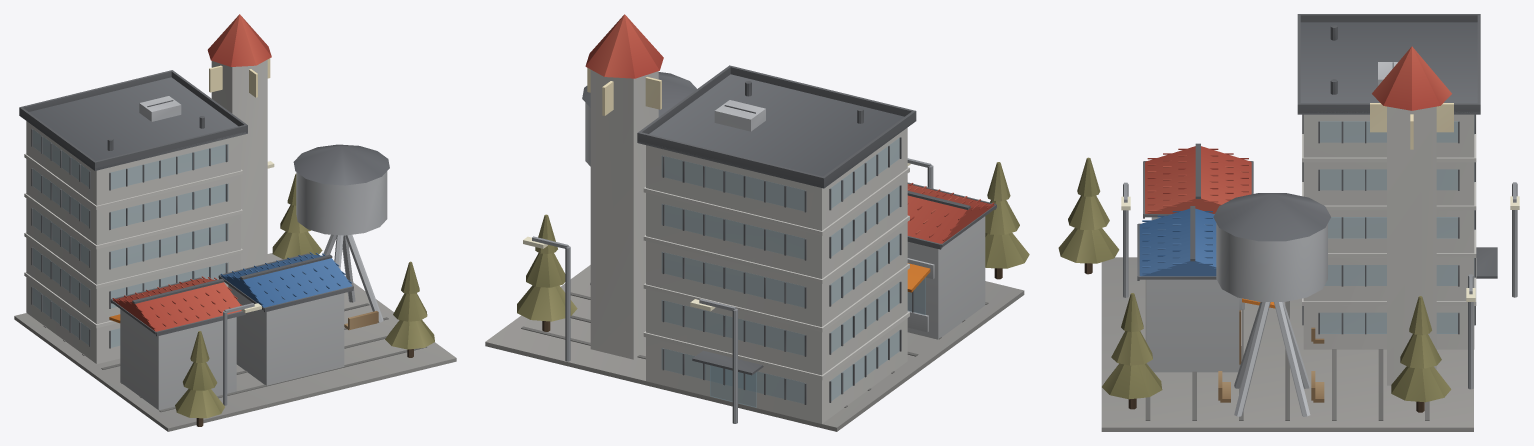
File: Civic_P3.fbx
The picture shows the model from 3 angles, left to right: view 1: azimuth 30°, elevation 25°; view 2: azimuth 150°, elevation 25°; view 3: azimuth 270°, elevation 25°; orthographic projection. The views are drawn at different scales.
Visible parts, largest first — view 1: Civic.Hall, Civic.Shop1, Civic.Shop0, Civic.Plaza, Civic.WaterTower, Civic.Tower, Civic.Tree2, Civic.Tree1, Civic.Tree0, Civic.Paving, Civic.Lamp0, Civic.Benches; view 2: Civic.Hall, Civic.Tower, Civic.Plaza, Civic.Shop0, Civic.Tree0, Civic.Tree2, Civic.WaterTower, Civic.Lamp1, Civic.Lamp2; view 3: Civic.Hall, Civic.Plaza, Civic.Tower, Civic.WaterTower, Civic.Shop1, Civic.Shop0, Civic.Tree2, Civic.Tree0, Civic.Tree1, Civic.Paving, Civic.Benches, Civic.Lamp0 (+2 smaller).
Boxes of the visible parts, bbox=[...] form: Civic.Hall: bbox=[19, 70, 247, 363]; Civic.Shop1: bbox=[218, 252, 353, 385]; Civic.Shop0: bbox=[109, 276, 245, 410]; Civic.Plaza: bbox=[14, 253, 456, 431]; Civic.WaterTower: bbox=[293, 144, 389, 322]; Civic.Tower: bbox=[207, 14, 271, 269]; Civic.Tree2: bbox=[175, 331, 224, 426]; Civic.Tree1: bbox=[385, 261, 434, 357]; Civic.Tree0: bbox=[272, 174, 322, 259]; Civic.Paving: bbox=[43, 303, 426, 412]; Civic.Lamp0: bbox=[223, 303, 261, 405]; Civic.Benches: bbox=[344, 311, 378, 330]; Civic.Hall: bbox=[637, 65, 916, 423]; Civic.Tower: bbox=[585, 14, 663, 359]; Civic.Plaza: bbox=[485, 265, 1024, 431]; Civic.Shop0: bbox=[907, 182, 996, 339]; Civic.Tree0: bbox=[517, 214, 577, 331]; Civic.Tree2: bbox=[985, 162, 1029, 279]; Civic.WaterTower: bbox=[582, 72, 696, 284]; Civic.Lamp1: bbox=[523, 236, 570, 361]; Civic.Lamp2: bbox=[690, 299, 737, 423]; Civic.Hall: bbox=[1297, 14, 1497, 349]; Civic.Plaza: bbox=[1101, 257, 1473, 431]; Civic.Tower: bbox=[1370, 46, 1453, 385]; Civic.WaterTower: bbox=[1213, 193, 1330, 416]; Civic.Shop1: bbox=[1137, 206, 1275, 372]; Civic.Shop0: bbox=[1143, 143, 1253, 309]; Civic.Tree2: bbox=[1058, 157, 1119, 274]; Civic.Tree0: bbox=[1391, 296, 1451, 412]; Civic.Tree1: bbox=[1102, 293, 1162, 409]; Civic.Paving: bbox=[1145, 280, 1429, 420]; Civic.Benches: bbox=[1218, 327, 1324, 402]; Civic.Lamp0: bbox=[1121, 182, 1130, 297].
Bounding box in the file's own units: 2600 × 2371 × 2970.
